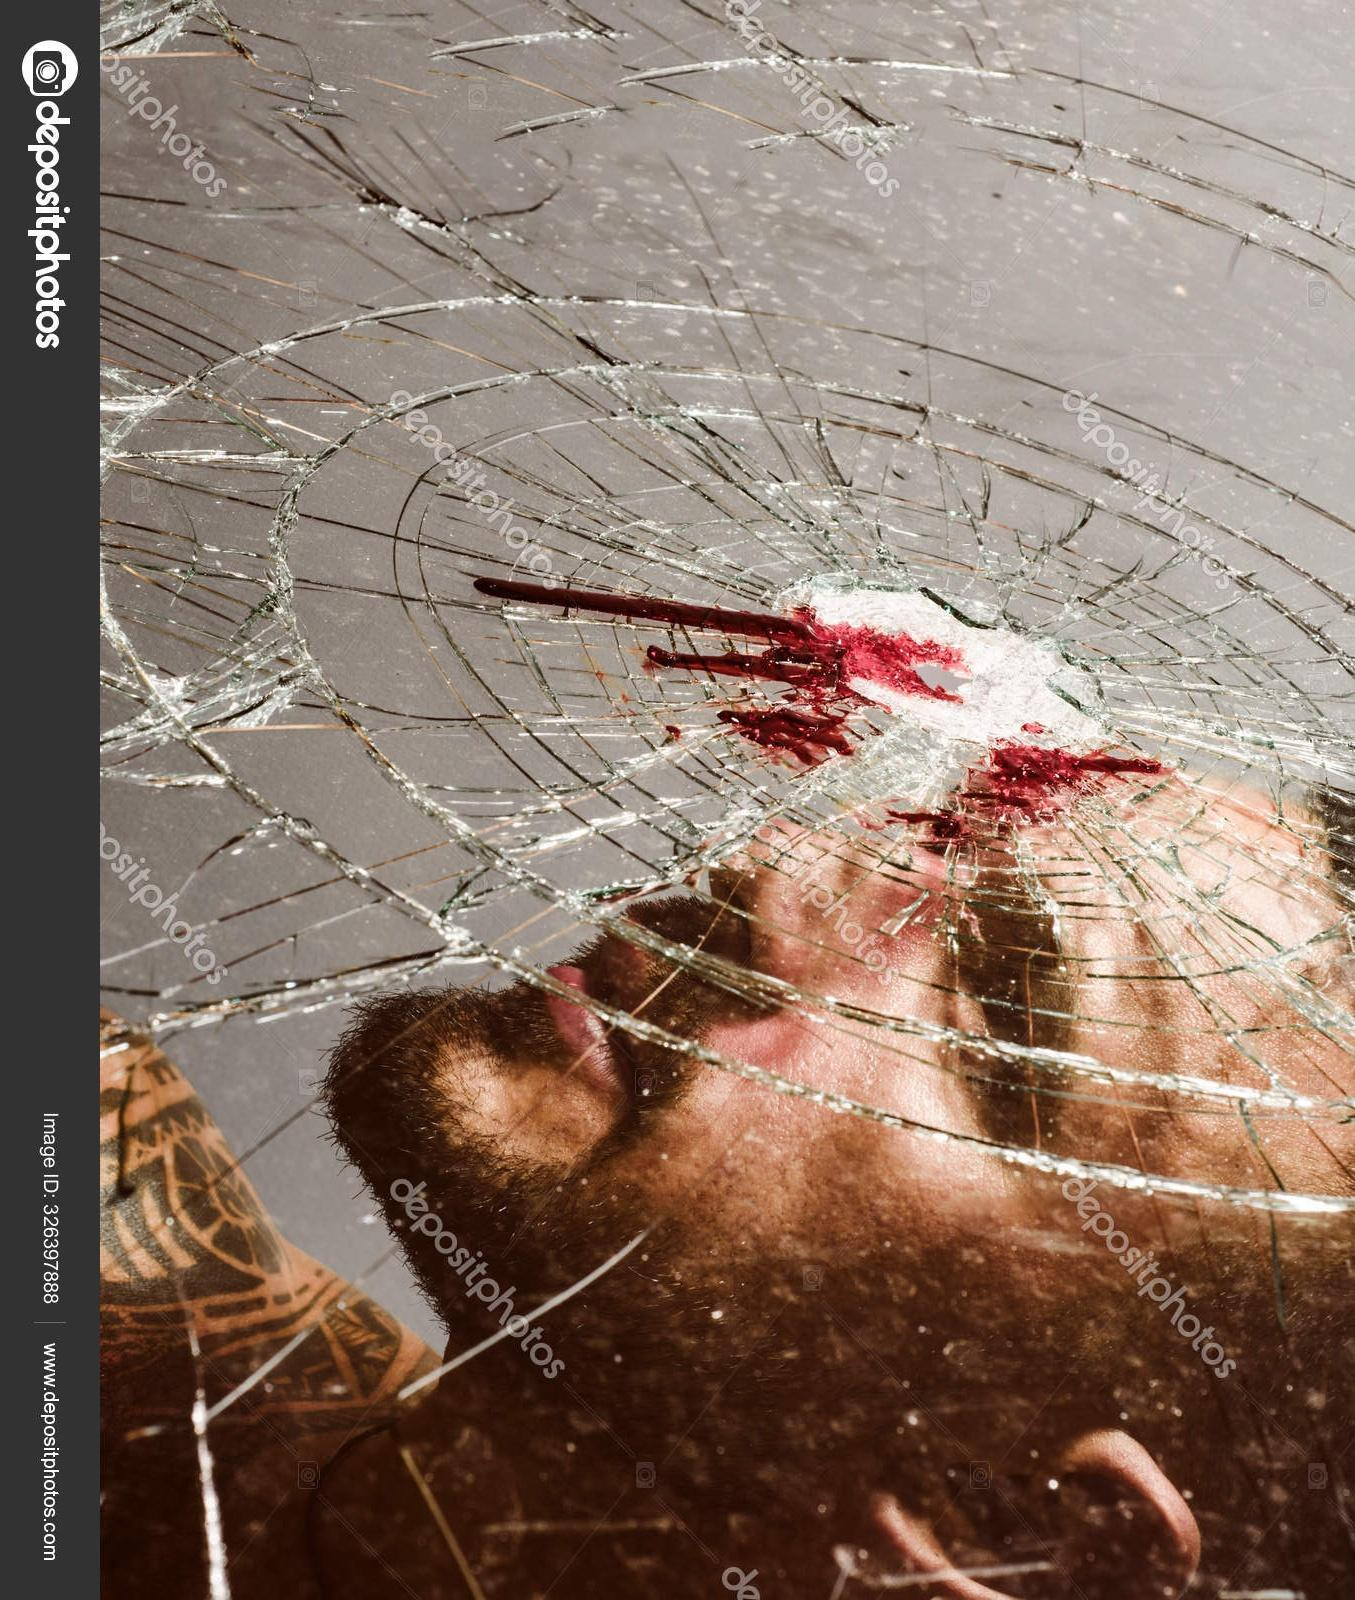Fire: (473, 577, 972, 772), (956, 737, 1176, 838), (885, 808, 971, 846)
